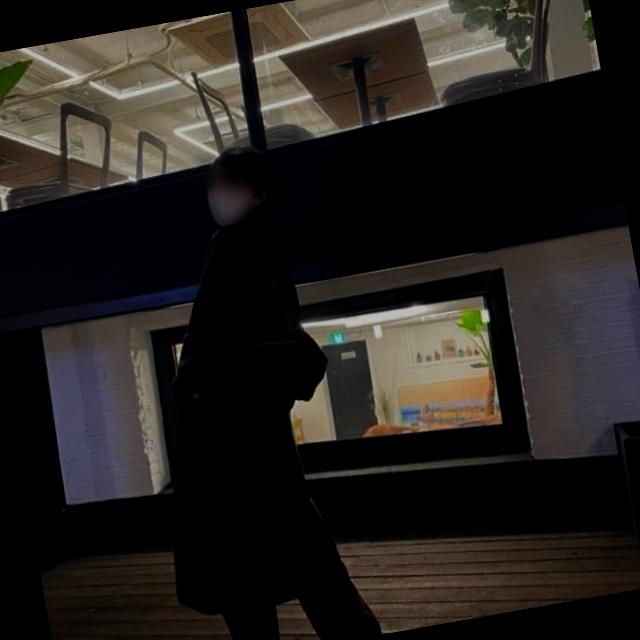coat: (113, 211, 346, 625)
cottonpants: (202, 483, 380, 640)
